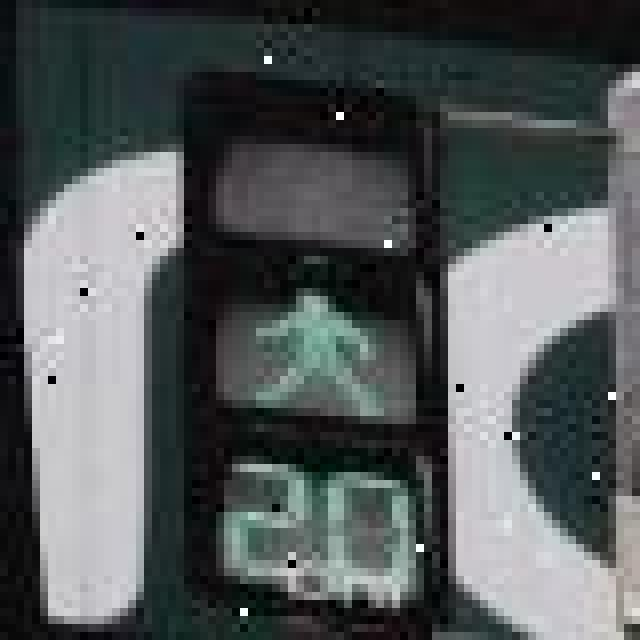greenlight: (144, 96, 448, 440)
